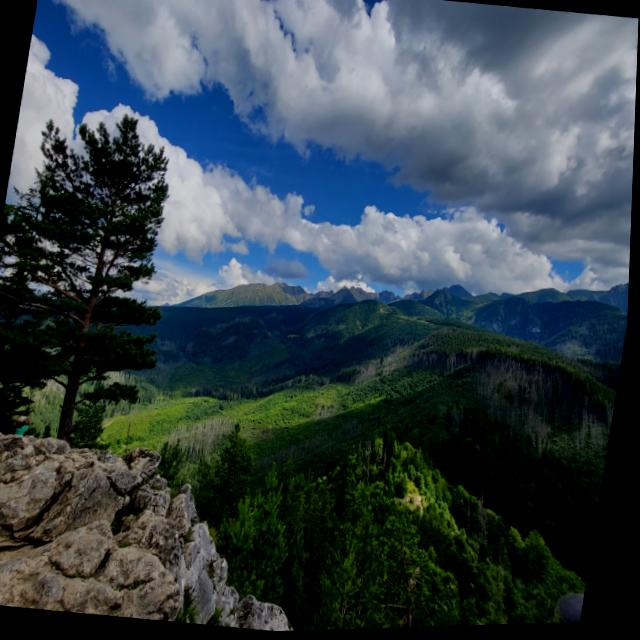Kasprowy Wierch: (574, 236, 631, 336)
Kozi Wierch: (335, 233, 444, 352)
Skrajny i Posredni Granat: (308, 242, 399, 338)
Swinica: (408, 235, 505, 341)
Wielka Koszysta i Waksmundzki Wierch: (253, 245, 339, 327)
